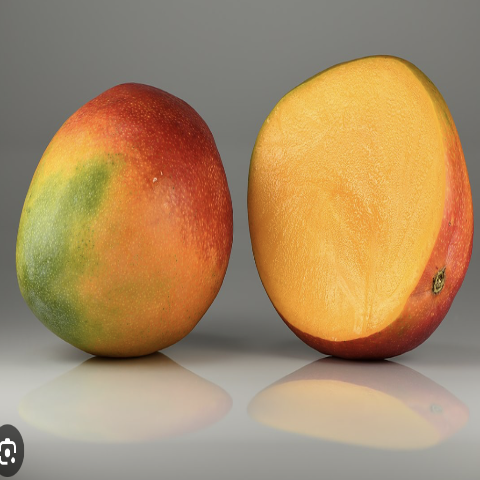mango: (243, 40, 478, 393), (10, 78, 238, 388)
